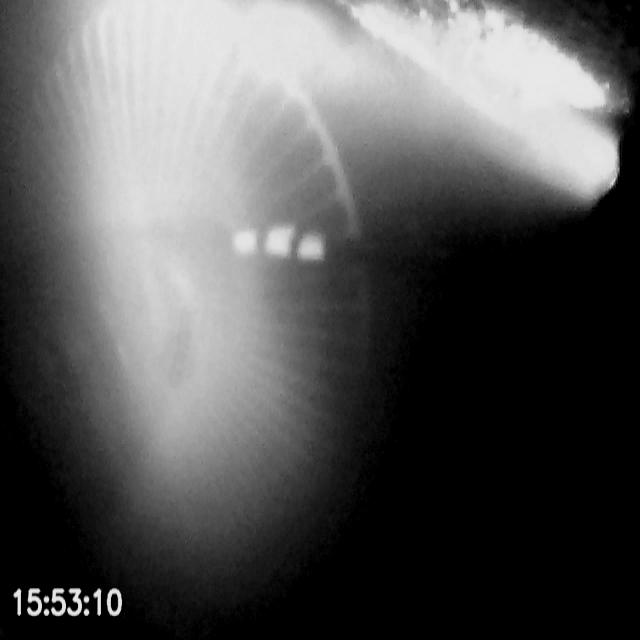white-dots: (232, 224, 329, 265)
